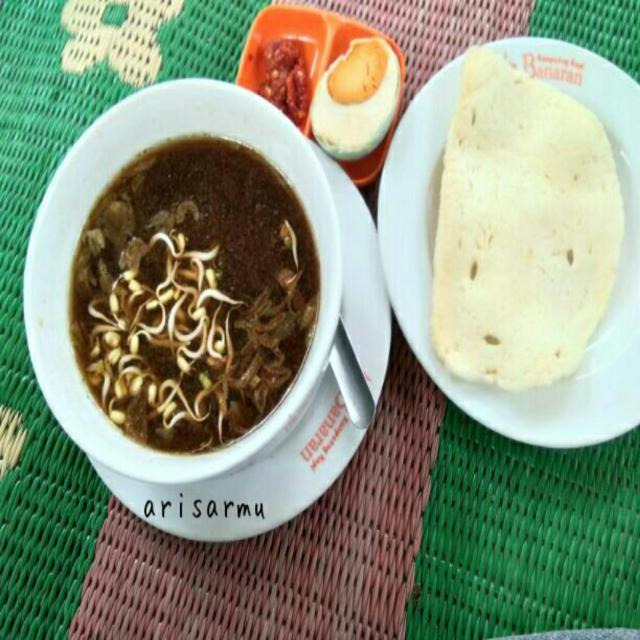Rawon: (54, 144, 310, 457)
